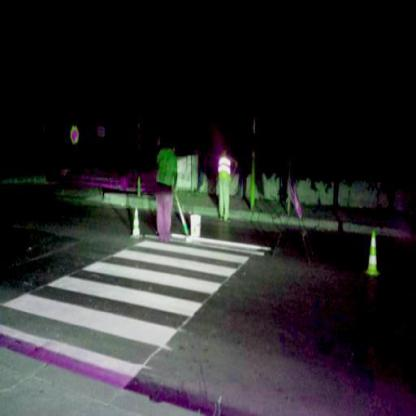crosswalk: (1, 272, 209, 350)
